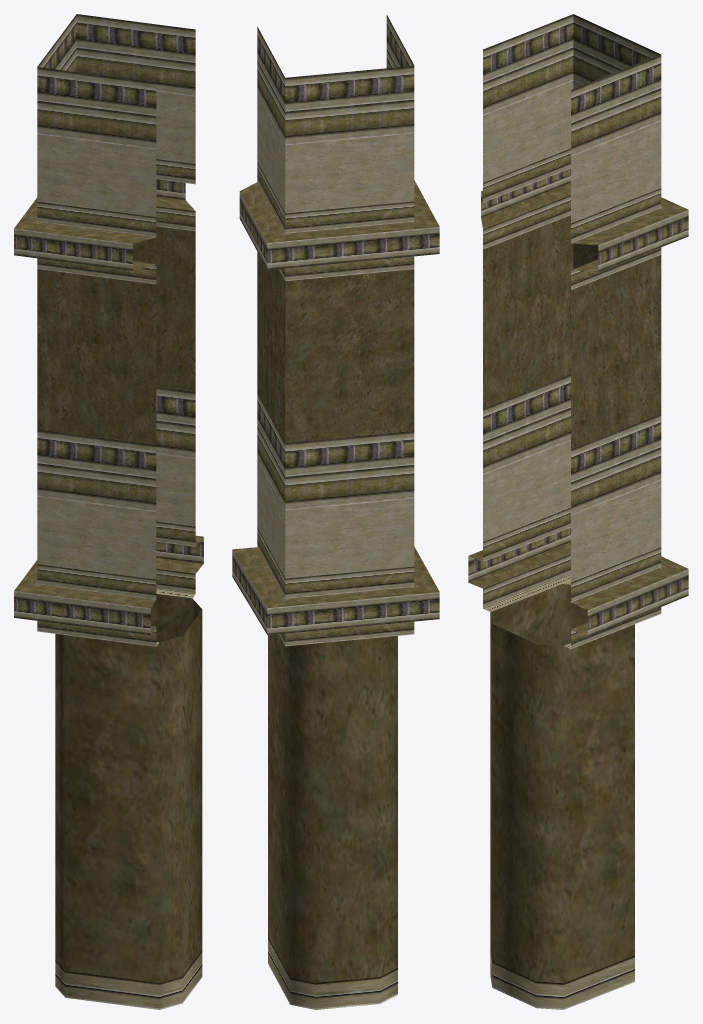
Rendered from CH09_SMAUG_PLAYSURFACE_LAIR68.obj.
3 views of the same model, side by side, from view 1: azimuth 30°, elevation 25°; view 2: azimuth 150°, elevation 25°; view 3: azimuth 270°, elevation 25° (orthographic).
Visible parts, largest first — view 1: lair68; view 2: lair68; view 3: lair68.
Boxes of the visible parts, <box> form: lair68: <box>14,14,203,1009</box>; lair68: <box>232,15,439,1009</box>; lair68: <box>468,14,688,1009</box>.
Size of the model in its own units: 429 by 1928 by 418.
